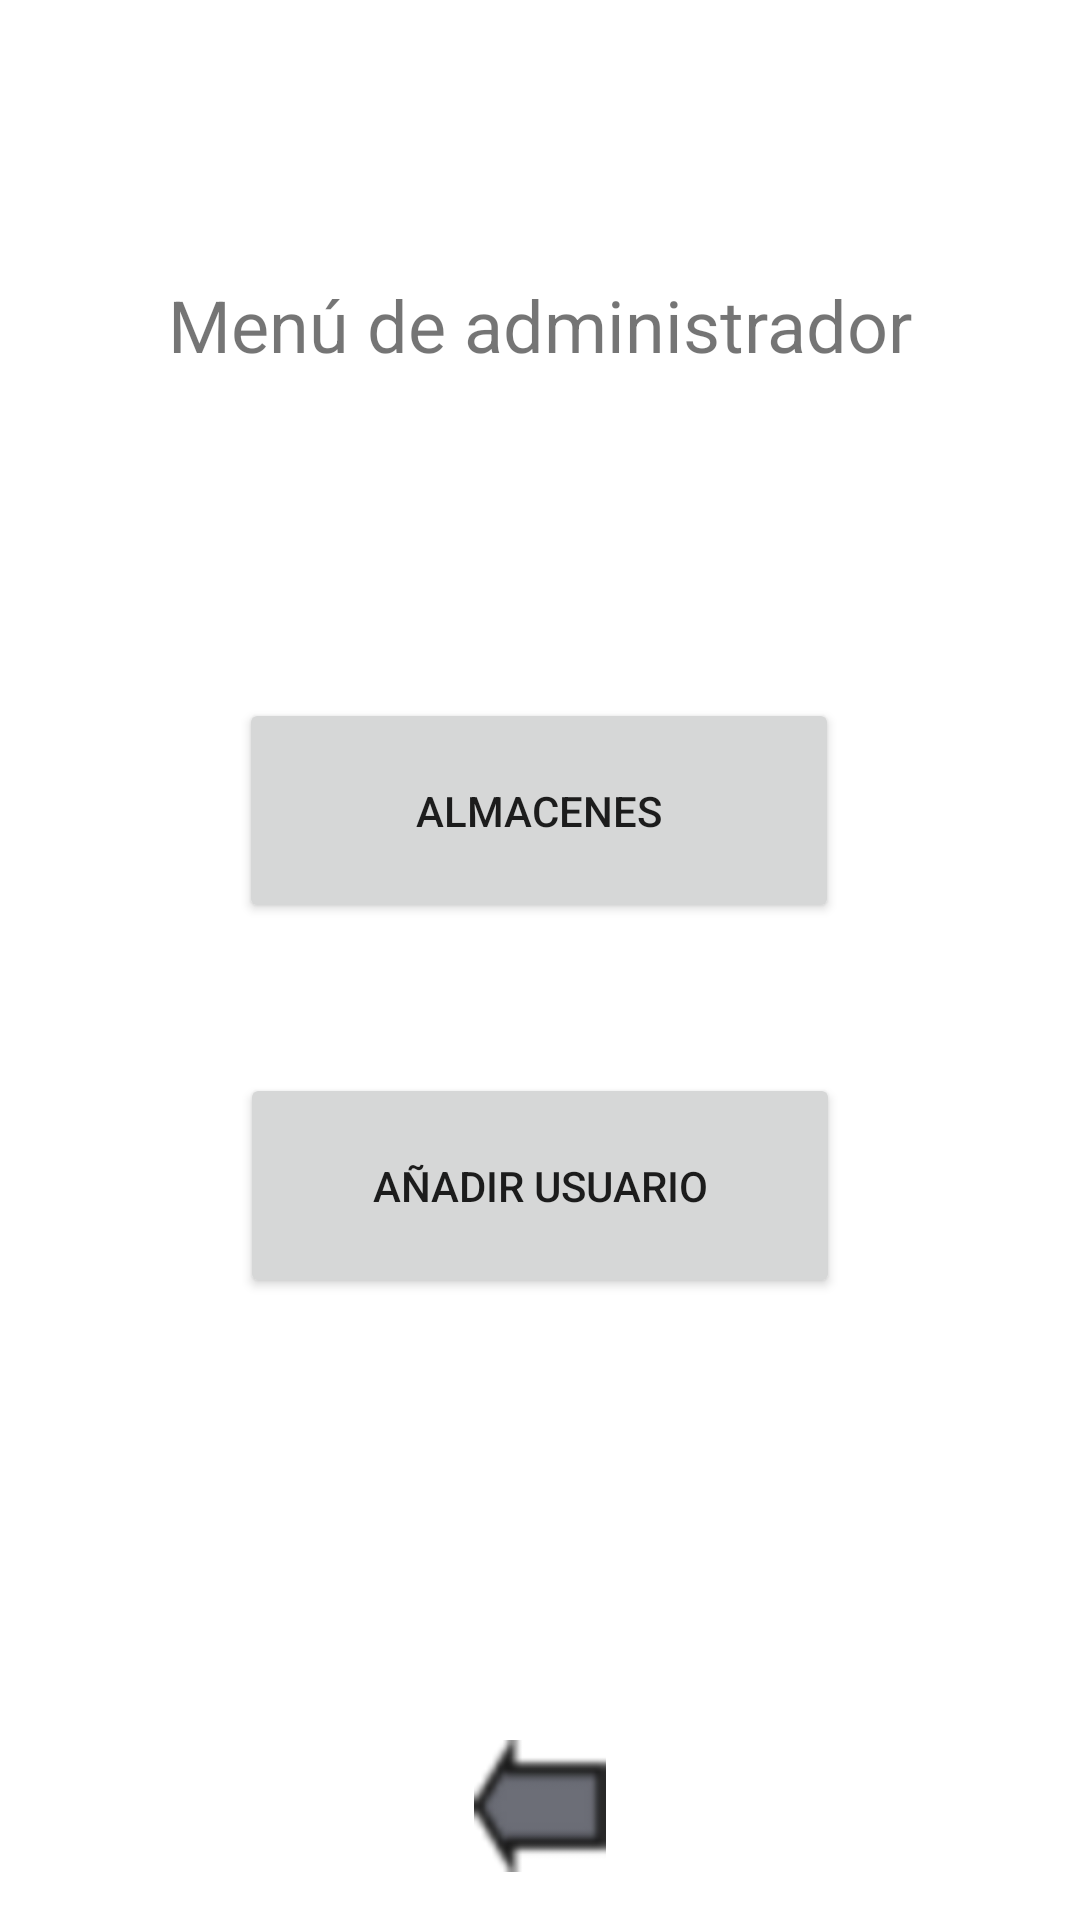

Point at icon controls on the screen. Image size 1080×1920, points as [x,y].
back: [540,1806]
